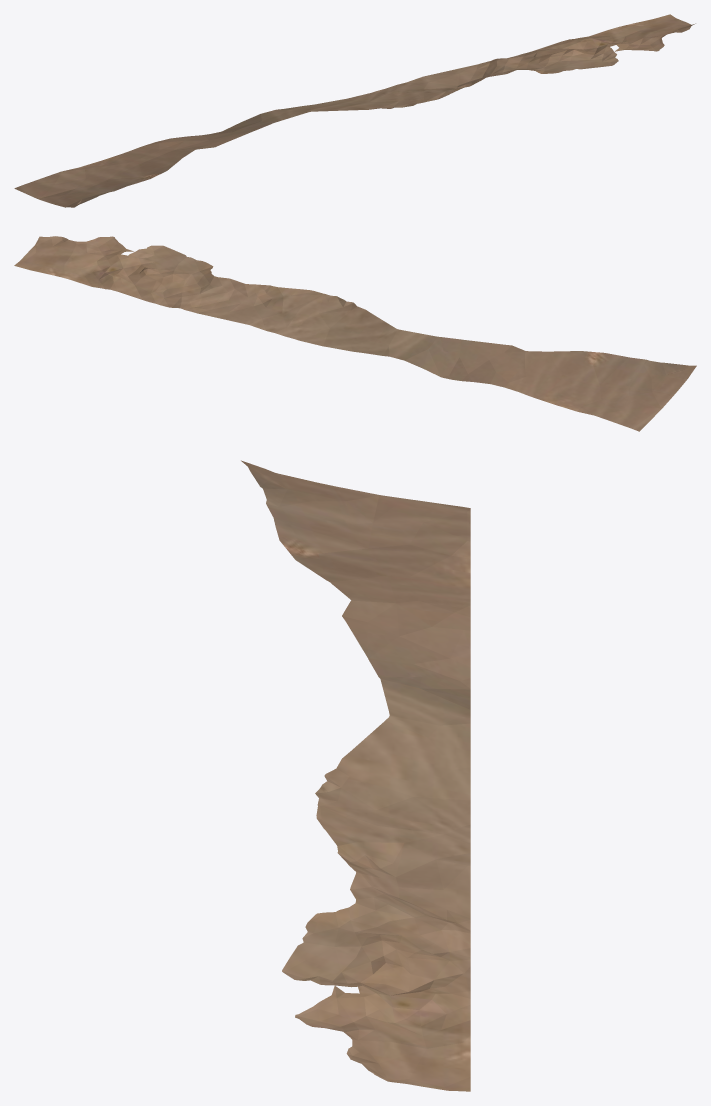
The picture shows the model from 3 angles, top to bottom: view 1: azimuth 30°, elevation 25°; view 2: azimuth 150°, elevation 25°; view 3: azimuth 270°, elevation 25°; orthographic projection. The views are drawn at different scales.
Size of the model in its own units: 2.09 by 0.0764 by 0.3328.
1 material, 1 textured.
